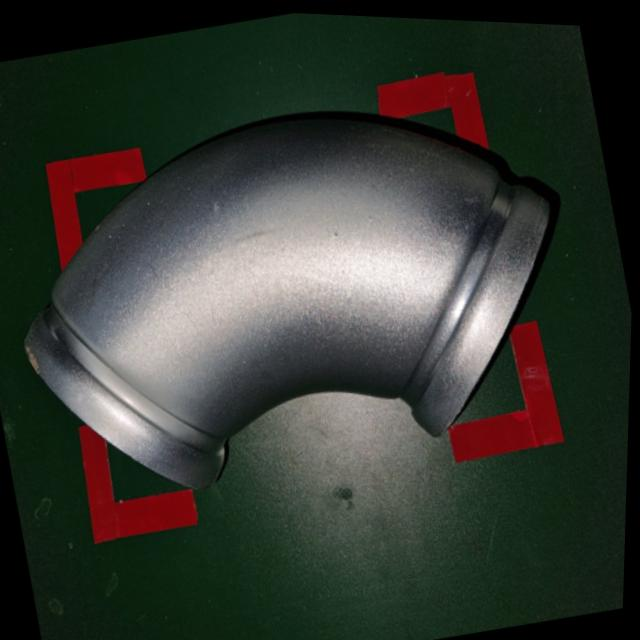Normal: (0, 39, 605, 538)
